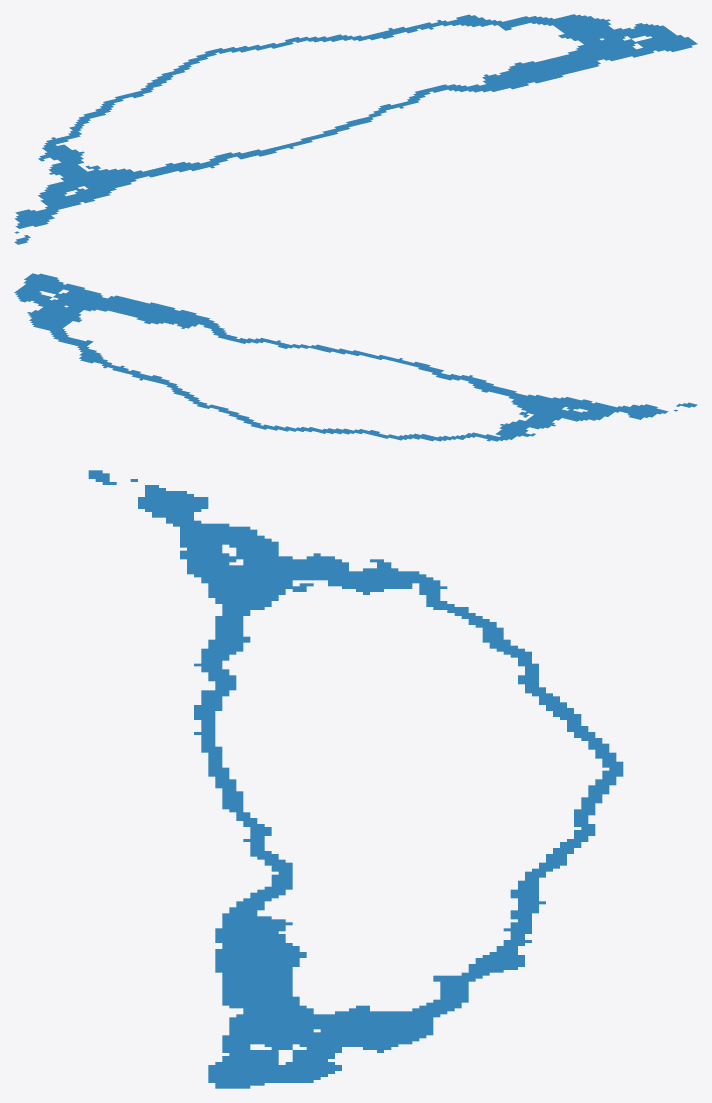
The model's file is Isl-long5-PlaceForWaterObjects.fbx.
The picture shows the model from 3 angles, top to bottom: view 1: azimuth 30°, elevation 25°; view 2: azimuth 150°, elevation 25°; view 3: azimuth 270°, elevation 25°; orthographic projection. The views are drawn at different scales.
Parts seen in each view (by area): view 1: Isl-long5-PlaceForWaterObjects; view 2: Isl-long5-PlaceForWaterObjects; view 3: Isl-long5-PlaceForWaterObjects.
Boxes of the visible parts, left/top/right/bottom form: Isl-long5-PlaceForWaterObjects: left=14, top=14, right=697, bottom=244; Isl-long5-PlaceForWaterObjects: left=14, top=273, right=697, bottom=441; Isl-long5-PlaceForWaterObjects: left=88, top=470, right=623, bottom=1088.
Bounding box in the file's own units: 208 × 0 × 76.
